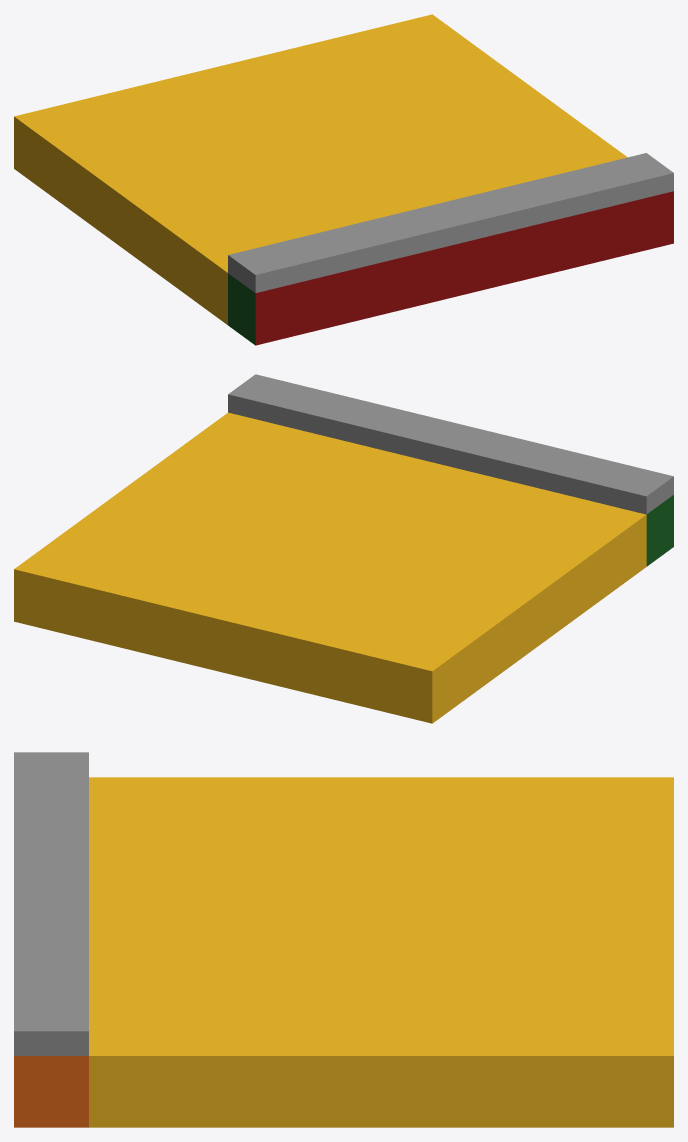
Rendered from MOD_SolsablesideB.FBX.
The picture shows the model from 3 angles, top to bottom: view 1: azimuth 30°, elevation 25°; view 2: azimuth 150°, elevation 25°; view 3: azimuth 270°, elevation 25°; orthographic projection. The views are drawn at different scales.
Visible parts, largest first — view 1: MOD_terrain herbeB001; view 2: MOD_terrain herbeB001; view 3: MOD_terrain herbeB001.
Part boxes in pixels (x1,y1,x2,y2): MOD_terrain herbeB001: (14, 14, 673, 345); MOD_terrain herbeB001: (14, 374, 673, 723); MOD_terrain herbeB001: (14, 752, 673, 1127).
Bounding box in the file's own units: 1 × 0.1611 × 1.
